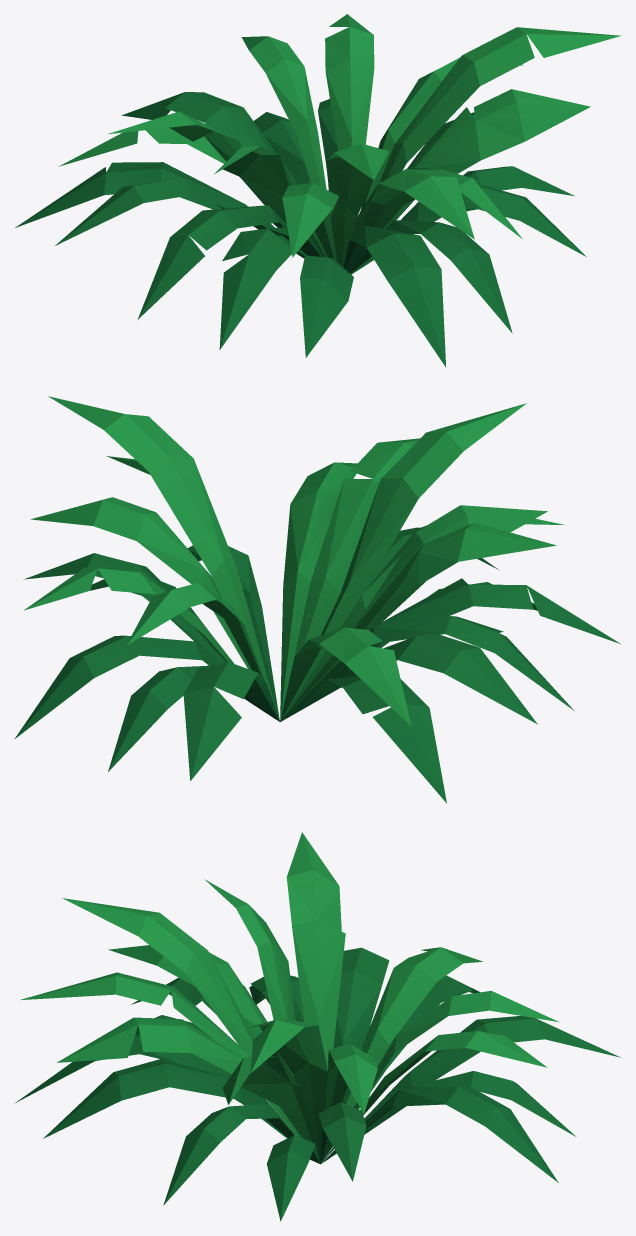
The model's file is bush_fern.glb.
The picture shows the model from 3 angles, top to bottom: view 1: azimuth 30°, elevation 25°; view 2: azimuth 150°, elevation 25°; view 3: azimuth 270°, elevation 25°; orthographic projection. The views are drawn at different scales.
Parts seen in each view (by area): view 1: Plant_4_A; view 2: Plant_4_A; view 3: Plant_4_A.
Boxes of the visible parts, bbox=[...] form: Plant_4_A: bbox=[15, 14, 621, 367]; Plant_4_A: bbox=[14, 396, 620, 803]; Plant_4_A: bbox=[15, 832, 620, 1221].
Size of the model in its own units: 0.7775 by 0.3285 by 0.806.
Materials: 1 (1 with a texture image).
